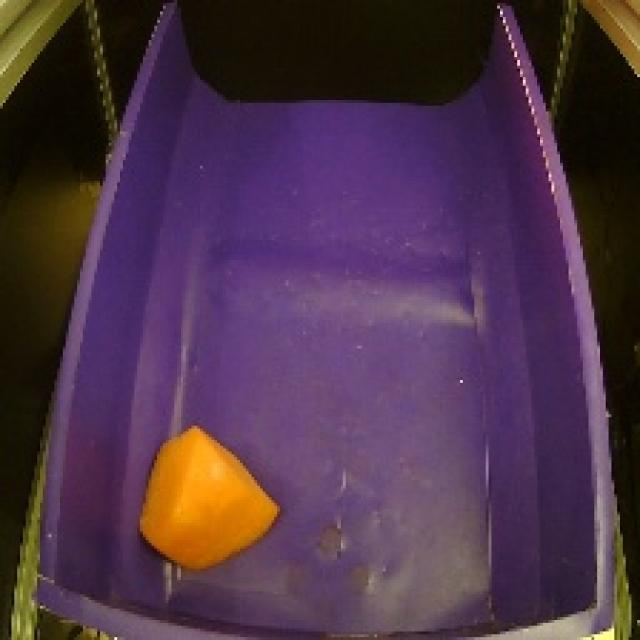carrots: (132, 417, 288, 572)
